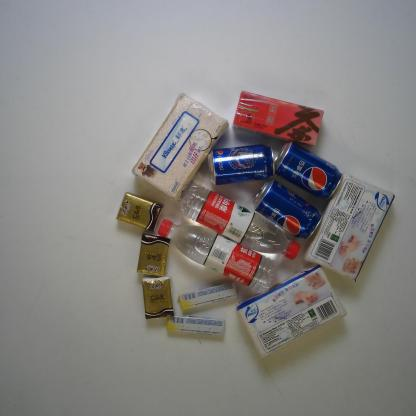Candy: (179, 281, 241, 310), (164, 316, 227, 338)
Drink: (175, 183, 302, 260), (154, 218, 280, 293), (249, 176, 323, 240), (272, 140, 343, 199), (206, 142, 279, 185)
Instant Drink: (231, 89, 325, 148)
Tissue: (130, 91, 228, 202), (300, 172, 397, 284), (235, 263, 348, 358), (116, 192, 163, 232), (140, 274, 178, 322), (133, 232, 172, 276)
